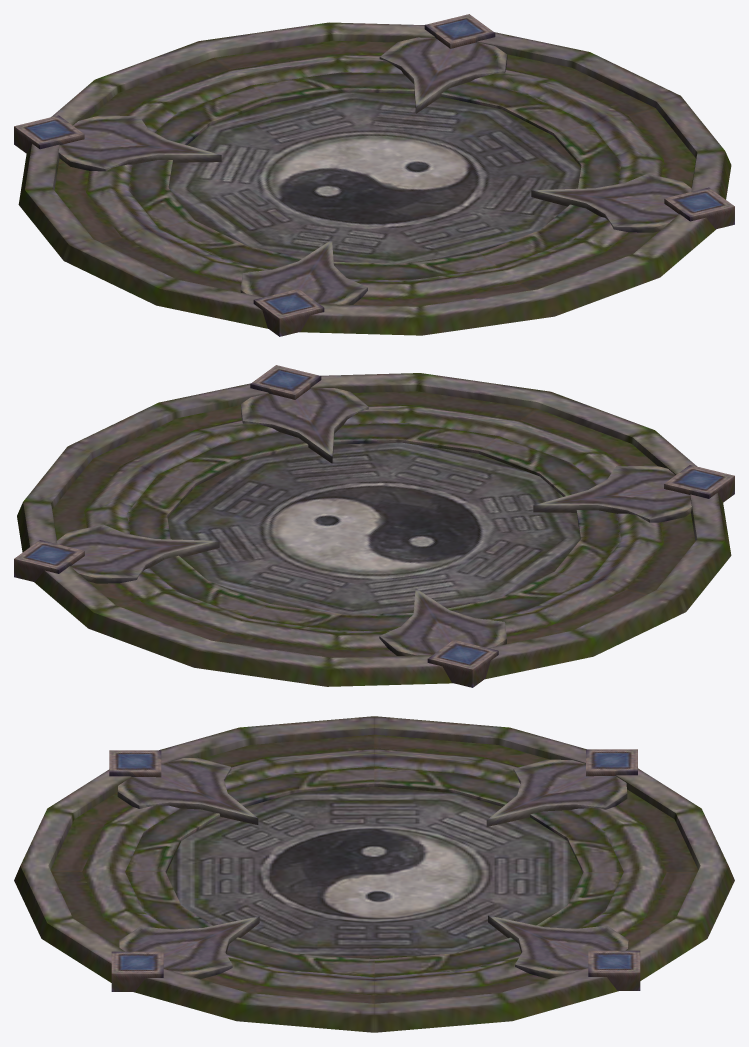
File: BGMB0001_0025_01.FBX
3 views of the same model, one above another, from view 1: azimuth 30°, elevation 25°; view 2: azimuth 150°, elevation 25°; view 3: azimuth 270°, elevation 25° (orthographic).
Parts seen in each view (by area): view 1: MB0001_0025_01; view 2: MB0001_0025_01; view 3: MB0001_0025_01.
Part boxes in pixels (x1,y1,x2,y2): MB0001_0025_01: (14,14,734,336); MB0001_0025_01: (14,365,734,687); MB0001_0025_01: (14,716,734,1032).
Bounding box in the file's own units: 30.89 × 0.8856 × 30.89.
